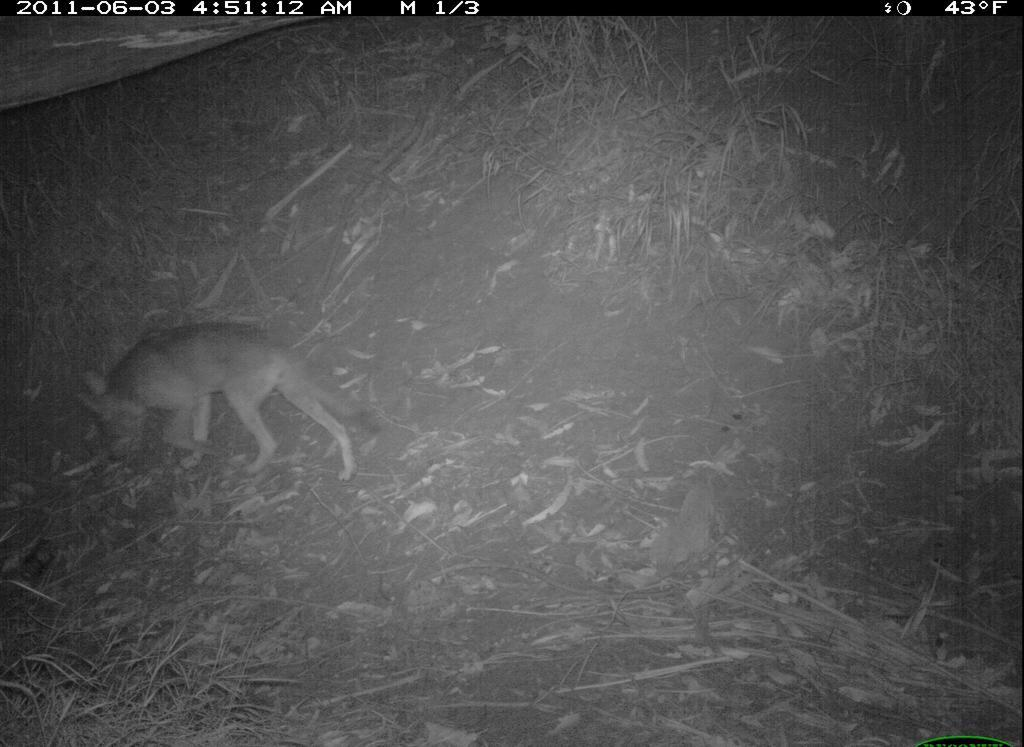coyote: (82, 301, 379, 514)
